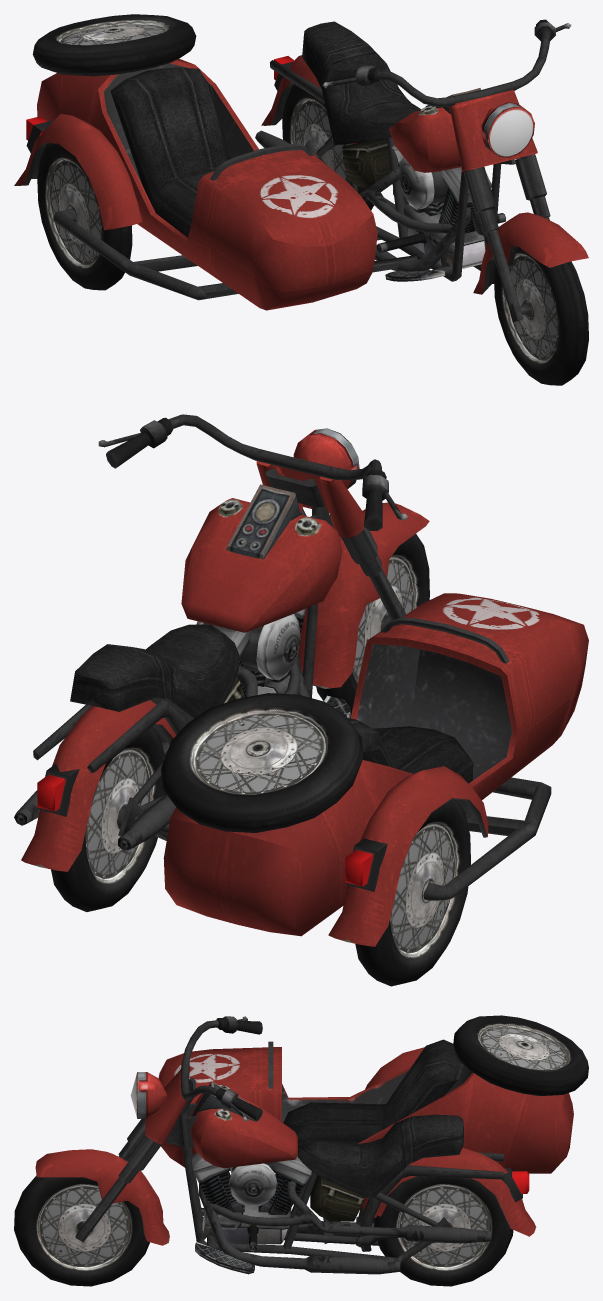
The model's file is Bike.fbx.
3 renders of one model, top to bottom at view 1: azimuth 30°, elevation 25°; view 2: azimuth 150°, elevation 25°; view 3: azimuth 270°, elevation 25°, orthographic. The views are drawn at different scales.
Visible parts, largest first — view 1: RedBike_Side_Car, Front_wheel, Extra_Wheel, Back_Wheel_2, Back_Wheel_1; view 2: RedBike_Side_Car, Extra_Wheel, Back_Wheel_2, Back_Wheel_1, Front_wheel; view 3: RedBike_Side_Car, Front_wheel, Back_Wheel_1, Extra_Wheel.
Part boxes in pixels (left/top/right/bottom): RedBike_Side_Car: left=14, top=19, right=588, bottom=322; Front_wheel: left=494, top=246, right=588, bottom=385; Extra_Wheel: left=32, top=14, right=196, bottom=76; Back_Wheel_2: left=37, top=143, right=132, bottom=290; Back_Wheel_1: left=282, top=84, right=373, bottom=210; RedBike_Side_Car: left=14, top=414, right=588, bottom=946; Extra_Wheel: left=161, top=693, right=363, bottom=832; Back_Wheel_2: left=355, top=799, right=470, bottom=986; Back_Wheel_1: left=51, top=726, right=165, bottom=911; Front_wheel: left=316, top=534, right=429, bottom=714; RedBike_Side_Car: left=35, top=1016, right=573, bottom=1274; Front_wheel: left=14, top=1175, right=149, bottom=1286; Back_Wheel_1: left=374, top=1176, right=513, bottom=1286; Extra_Wheel: left=453, top=1015, right=588, bottom=1095.
Size of the model in its own units: 156 by 102 by 228.
Materials: 2 (2 with a texture image).
